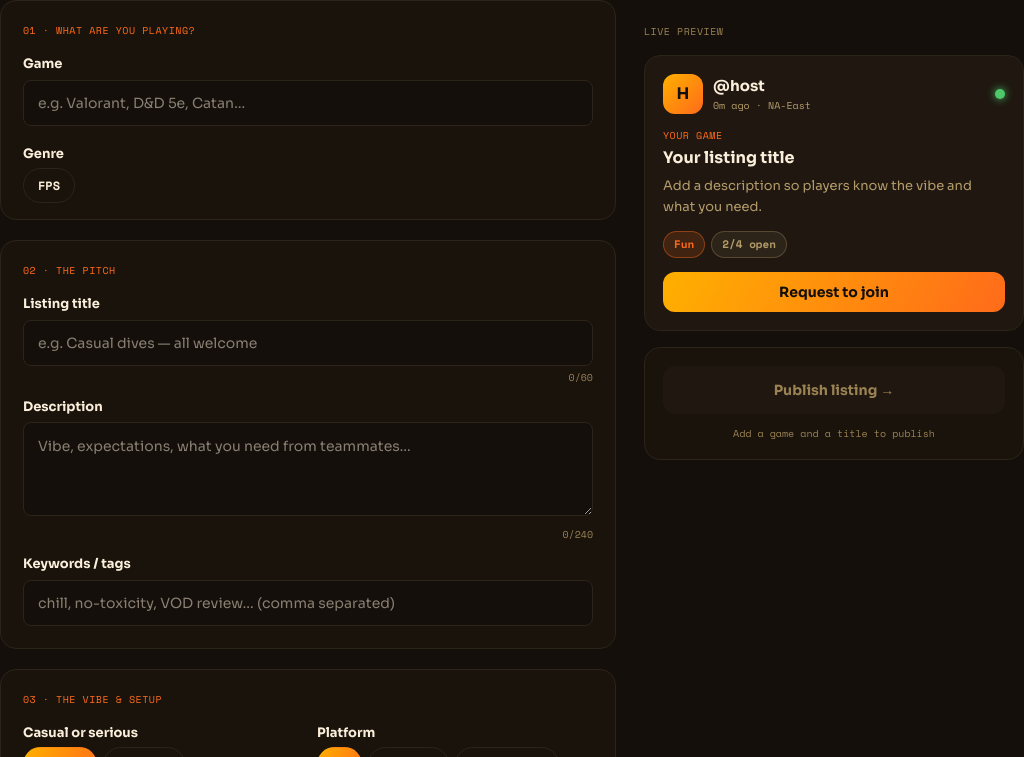
Test: game typeahead (036/FR-001) › offers matching existing games as you type
In the dropdown labelled "Game": (308, 102) [23,80,593,126], type "val"
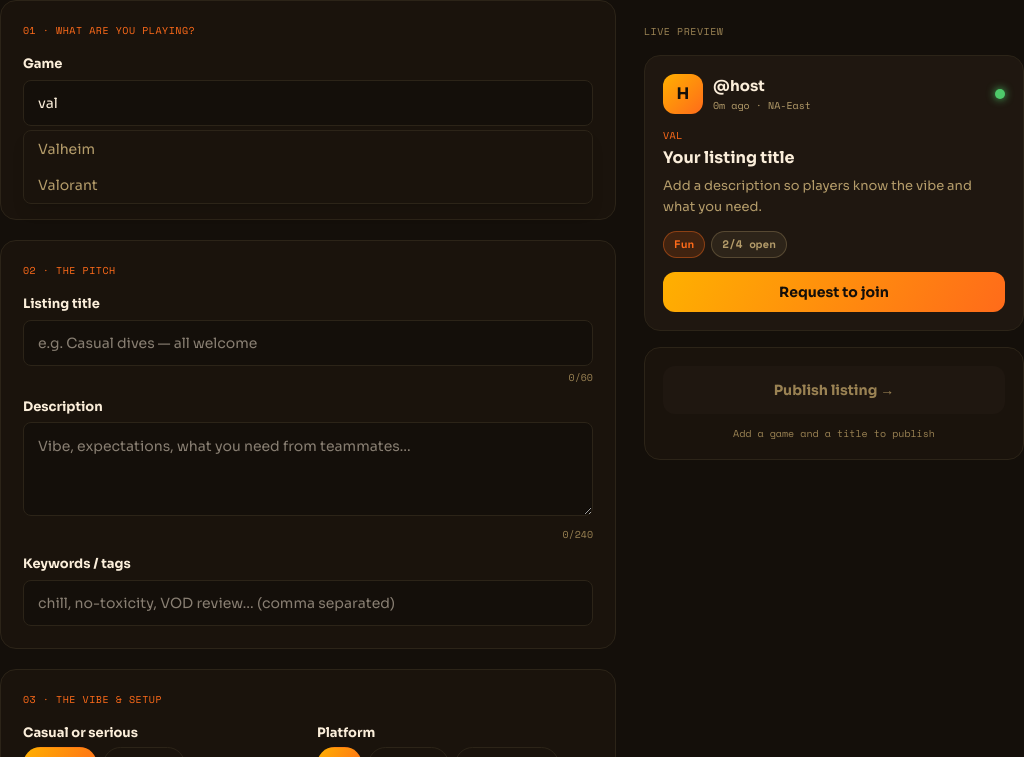
Expected: the option "Valorant" is shown, [24,166,592,202]
Expected: the option "Valheim" is shown, [24,130,592,166]
